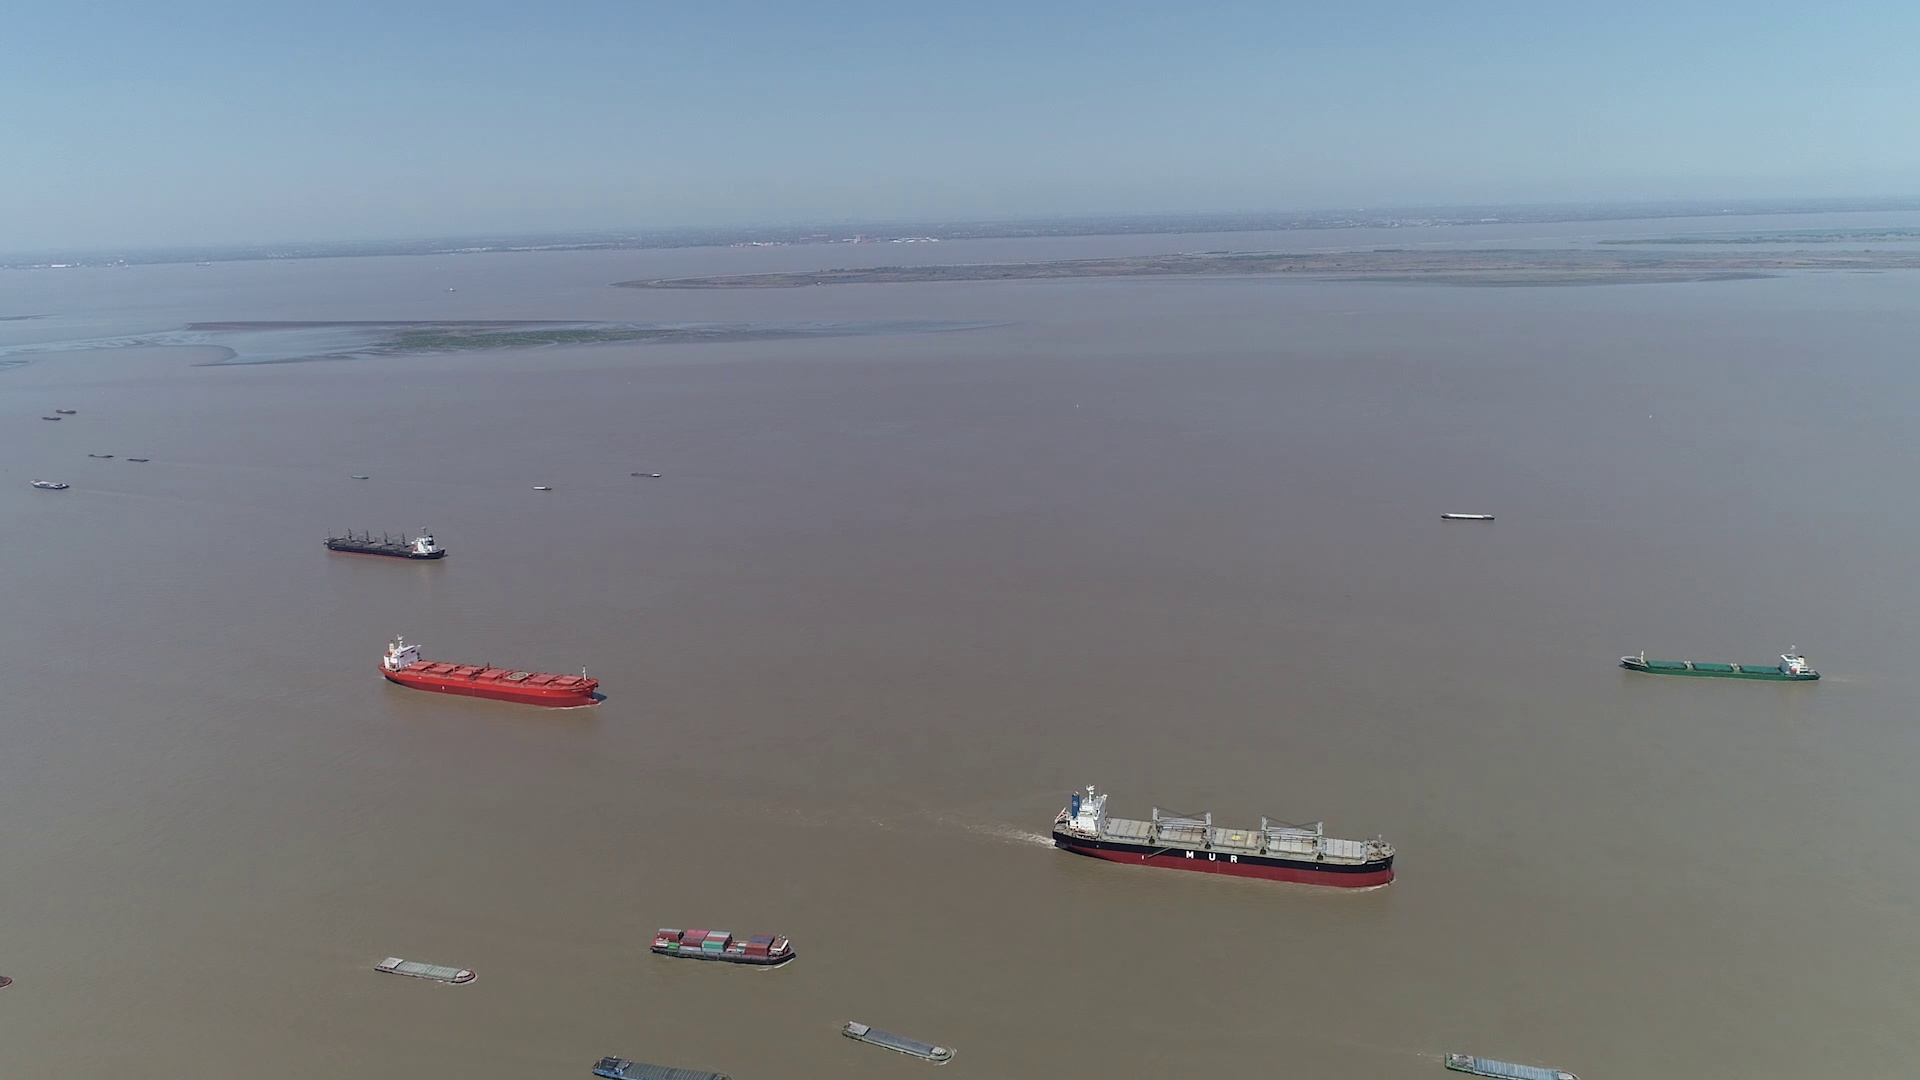ship: (1052, 786, 1398, 887), (380, 638, 597, 705), (1619, 649, 1821, 680), (651, 927, 795, 967), (843, 1022, 956, 1065), (324, 527, 444, 560), (1447, 1054, 1577, 1080), (596, 1056, 725, 1080), (372, 953, 473, 982), (1441, 512, 1494, 522), (33, 479, 73, 491), (529, 484, 550, 492)
